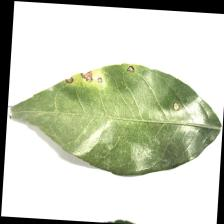canker: (56, 52, 149, 92)
